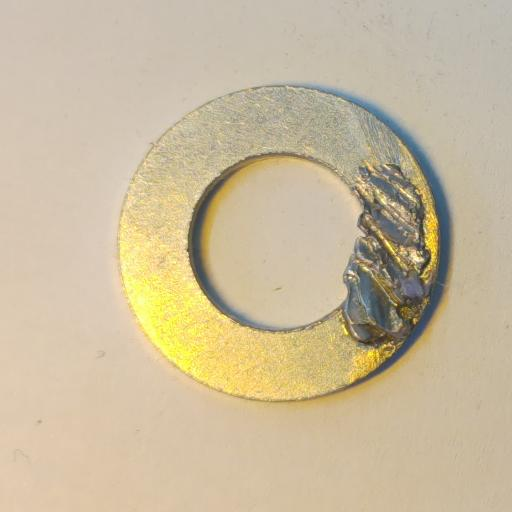excess_material: (341, 163, 431, 349)
